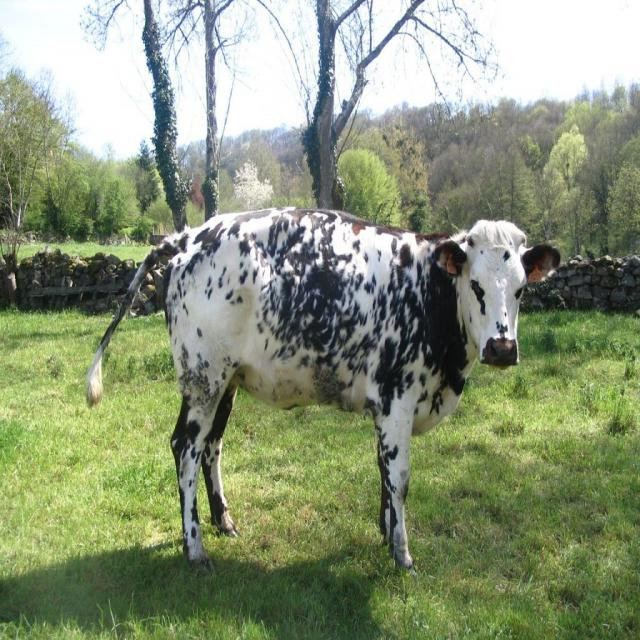Cattle: (85, 206, 561, 576)
